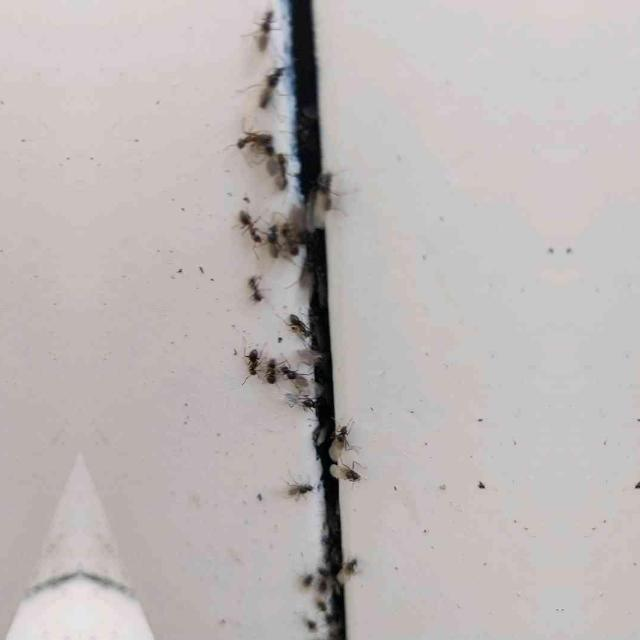Lasius: (244, 1, 286, 52), (326, 407, 362, 459), (315, 165, 339, 235), (236, 204, 274, 248), (281, 360, 321, 400), (256, 63, 284, 111), (288, 250, 318, 294), (284, 308, 316, 346), (274, 476, 322, 500), (272, 144, 294, 196), (236, 344, 262, 388), (244, 269, 266, 315), (259, 219, 283, 261), (279, 219, 303, 261), (280, 386, 316, 414), (258, 350, 284, 386), (232, 122, 272, 144), (332, 554, 356, 588), (328, 462, 367, 482)
